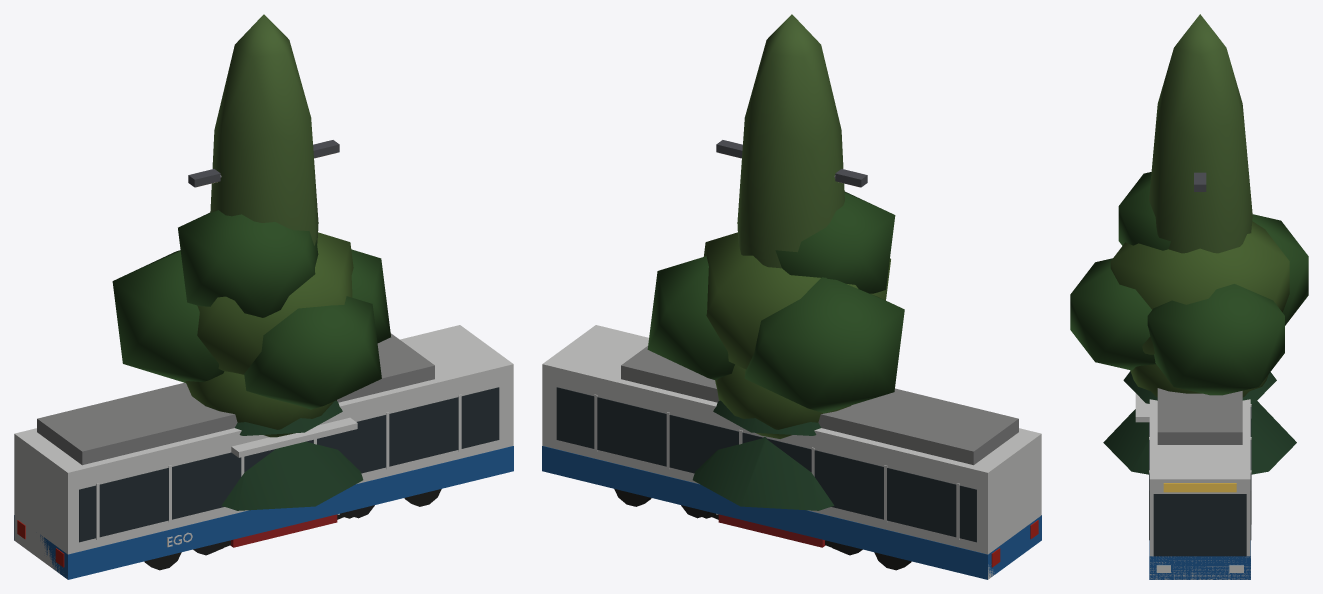
Rendered from donati.glb.
3 views of the same model, side by side, from view 1: azimuth 30°, elevation 25°; view 2: azimuth 150°, elevation 25°; view 3: azimuth 270°, elevation 25° (orthographic). The views are drawn at different scales.
Visible parts, largest first — view 1: D09_Otobus_EGO.001, D00_Agac_Cinar.001, D02_Agac_Kavak.001, D01_Agac_Cam.001, D03_Agac_Ihlamur.001, D16_Bufe.001, D11_Sokak_Lambasi.001; view 2: D09_Otobus_EGO.001, D00_Agac_Cinar.001, D02_Agac_Kavak.001, D01_Agac_Cam.001, D03_Agac_Ihlamur.001, D16_Bufe.001, D11_Sokak_Lambasi.001; view 3: D00_Agac_Cinar.001, D09_Otobus_EGO.001, D02_Agac_Kavak.001, D01_Agac_Cam.001, D03_Agac_Ihlamur.001, D16_Bufe.001.
Part boxes in pixels (<box>): D09_Otobus_EGO.001: <box>14,325,513,579</box>; D00_Agac_Cinar.001: <box>112,210,390,409</box>; D02_Agac_Kavak.001: <box>210,14,318,245</box>; D01_Agac_Cam.001: <box>221,400,363,510</box>; D03_Agac_Ihlamur.001: <box>185,371,336,437</box>; D16_Bufe.001: <box>230,417,357,547</box>; D11_Sokak_Lambasi.001: <box>188,140,339,187</box>; D09_Otobus_EGO.001: <box>542,325,1041,579</box>; D00_Agac_Cinar.001: <box>647,191,904,412</box>; D02_Agac_Kavak.001: <box>737,14,844,268</box>; D01_Agac_Cam.001: <box>692,400,834,510</box>; D03_Agac_Ihlamur.001: <box>715,364,850,438</box>; D16_Bufe.001: <box>718,514,825,547</box>; D11_Sokak_Lambasi.001: <box>716,140,867,187</box>; D00_Agac_Cinar.001: <box>1070,172,1308,395</box>; D09_Otobus_EGO.001: <box>1149,388,1251,579</box>; D02_Agac_Kavak.001: <box>1149,14,1252,253</box>; D01_Agac_Cam.001: <box>1103,371,1296,474</box>; D03_Agac_Ihlamur.001: <box>1130,364,1268,397</box>; D16_Bufe.001: <box>1135,393,1149,422</box>.
Size of the model in its own units: 12.04 by 13 by 5.9.
